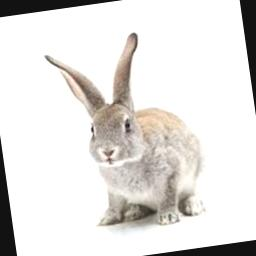rabbit: (45, 32, 205, 225)
